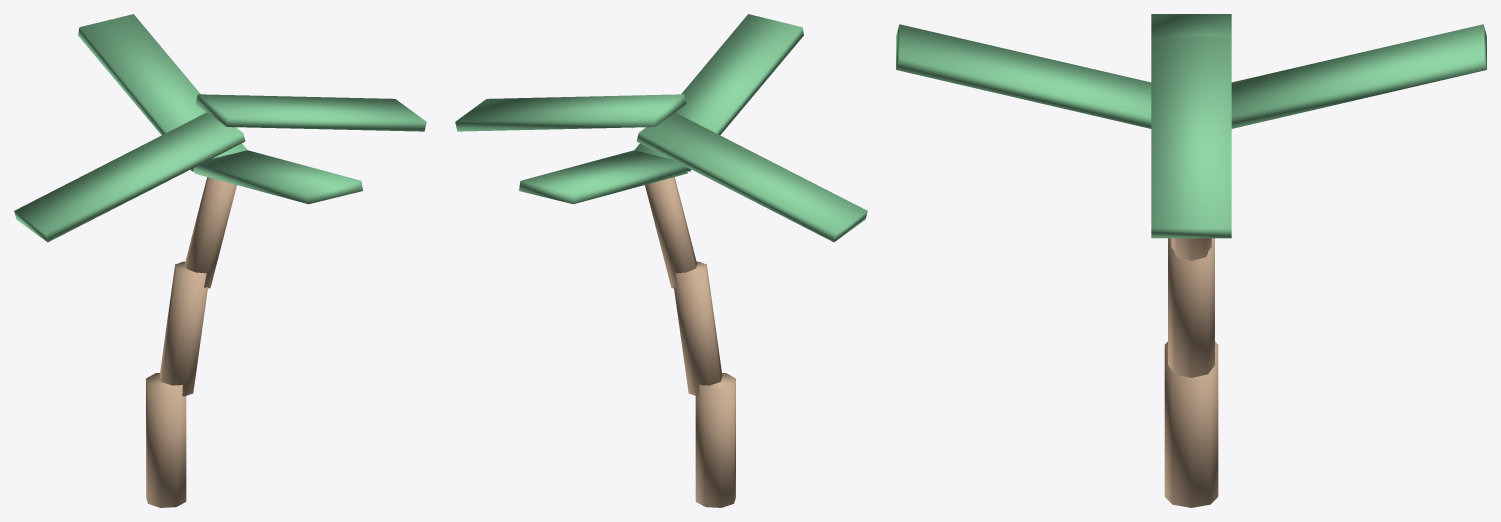
File: palm_tree.glb
The picture shows the model from 3 angles, left to right: view 1: azimuth 30°, elevation 25°; view 2: azimuth 150°, elevation 25°; view 3: azimuth 270°, elevation 25°; orthographic projection. The views are drawn at different scales.
Visible parts, largest first — view 1: leaf_w, leaf_n, leaf_e, trunk1, leaf_s, trunk2, trunk3; view 2: leaf_w, leaf_s, leaf_e, trunk1, leaf_n, trunk2, trunk3; view 3: leaf_e, leaf_n, leaf_s, trunk1, trunk2, leaf_w, trunk3.
Part boxes in pixels (<box>): leaf_w: <box>14,112,245,242</box>; leaf_n: <box>78,14,247,171</box>; leaf_e: <box>195,94,426,131</box>; trunk1: <box>146,373,186,507</box>; leaf_s: <box>193,150,362,204</box>; trunk2: <box>159,261,207,396</box>; trunk3: <box>184,177,236,288</box>; leaf_w: <box>636,112,867,242</box>; leaf_s: <box>634,14,803,171</box>; leaf_e: <box>455,94,686,131</box>; trunk1: <box>695,373,735,507</box>; leaf_n: <box>519,150,688,204</box>; trunk2: <box>674,261,722,396</box>; trunk3: <box>645,177,697,288</box>; leaf_e: <box>1151,36,1231,238</box>; leaf_n: <box>1231,24,1486,128</box>; leaf_s: <box>896,24,1151,128</box>; trunk1: <box>1164,341,1218,507</box>; trunk2: <box>1168,238,1214,377</box>; leaf_w: <box>1151,14,1231,36</box>; trunk3: <box>1171,238,1211,260</box>.
Bounding box in the file's own units: 0.841 × 0.8054 × 0.881.
